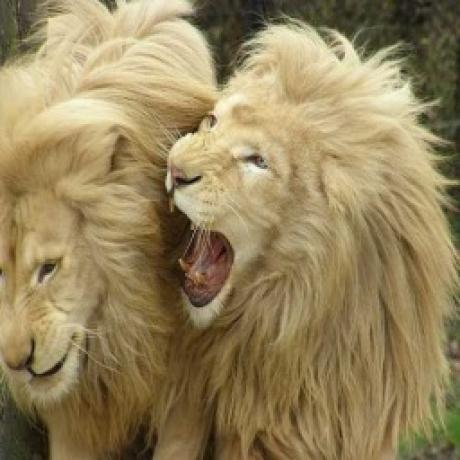Lion: (167, 18, 460, 460), (0, 0, 222, 460)
